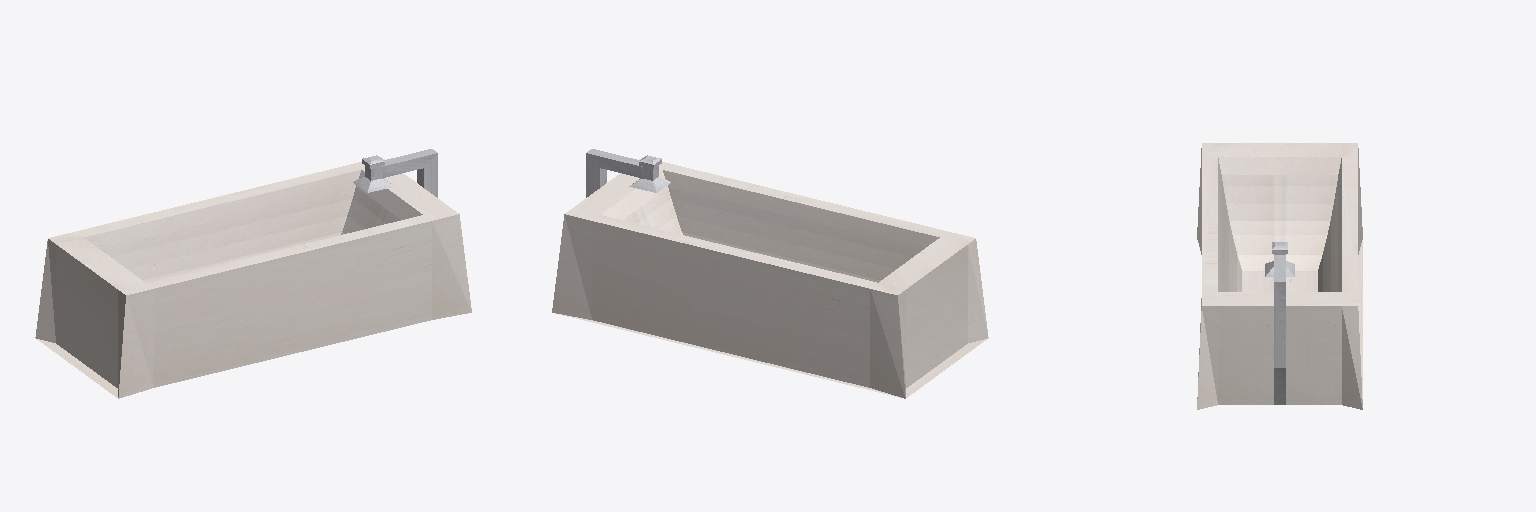
3 views of the same model, side by side, from view 1: azimuth 30°, elevation 25°; view 2: azimuth 150°, elevation 25°; view 3: azimuth 270°, elevation 25° (orthographic).
Parts seen in each view (by area): view 1: Cube.006; view 2: Cube.006; view 3: Cube.006.
Boxes of the visible parts, x1,y1,x2,y2 form: Cube.006: [35, 149, 471, 398]; Cube.006: [552, 149, 988, 398]; Cube.006: [1197, 143, 1362, 409].
Size of the model in its own units: 4.28 by 1.57 by 1.72.
1 materials, 1 textured.